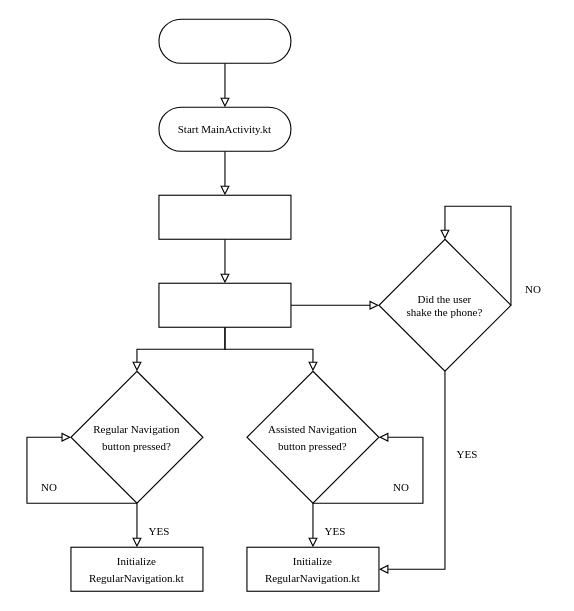
Image size: 574x611. Some labels were removed from this diagram. The shapes that lost their labels are listed below. From the top down, each one's centre as x and y in pixels, then its label:
(224,40): Launch VirtualEYE
(224,216): Initialize TTS Controller and Sensor Manager
(224,304): Speak the Welcome Message
